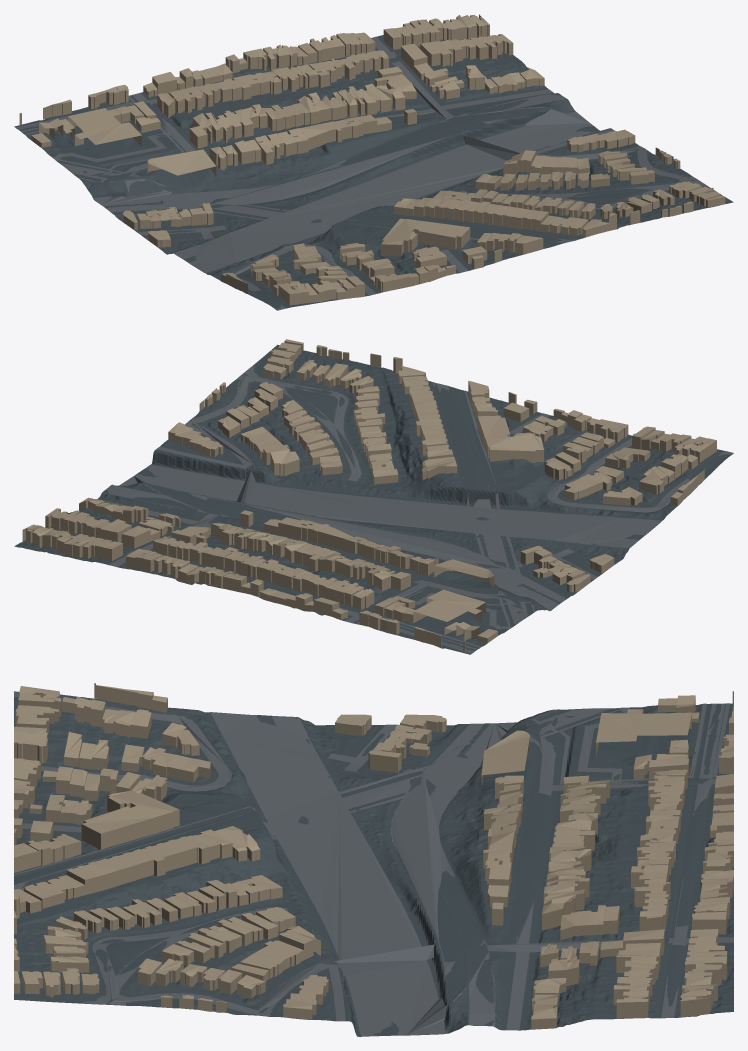
Rendered from epsg26910-1433-10875.lod0.glb.
The picture shows the model from 3 angles, top to bottom: view 1: azimuth 30°, elevation 25°; view 2: azimuth 150°, elevation 25°; view 3: azimuth 270°, elevation 25°; orthographic projection. The views are drawn at different scales.
Visible parts, largest first — view 1: epsg26910-1433-10875-lod0; view 2: epsg26910-1433-10875-lod0; view 3: epsg26910-1433-10875-lod0.
Part boxes in pixels (box(x1,y1,x2,y2)): epsg26910-1433-10875-lod0: box(14, 14, 733, 310); epsg26910-1433-10875-lod0: box(14, 339, 733, 654); epsg26910-1433-10875-lod0: box(14, 683, 733, 1036).
Bounding box in the file's own units: 384 × 35.34 × 384.
